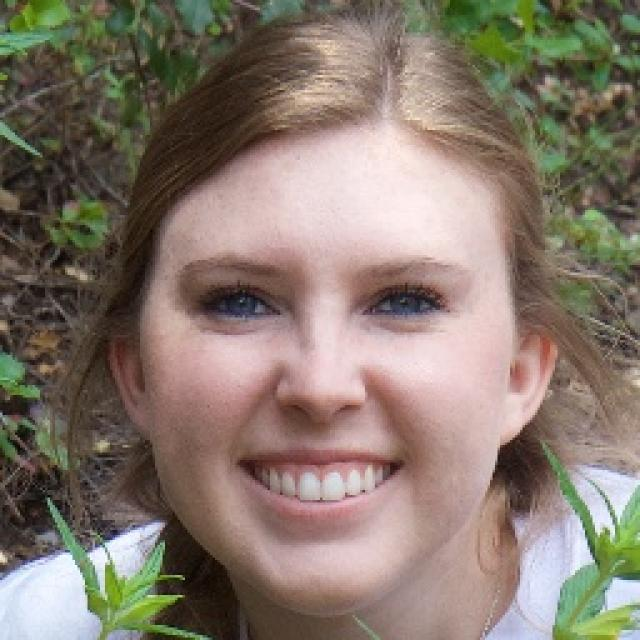earlobe: (502, 412, 524, 444), (134, 406, 154, 440)
eye: (192, 290, 286, 321), (365, 292, 449, 320)
nose: (276, 400, 366, 441)
wholeear: (500, 321, 561, 445), (107, 331, 153, 440)
